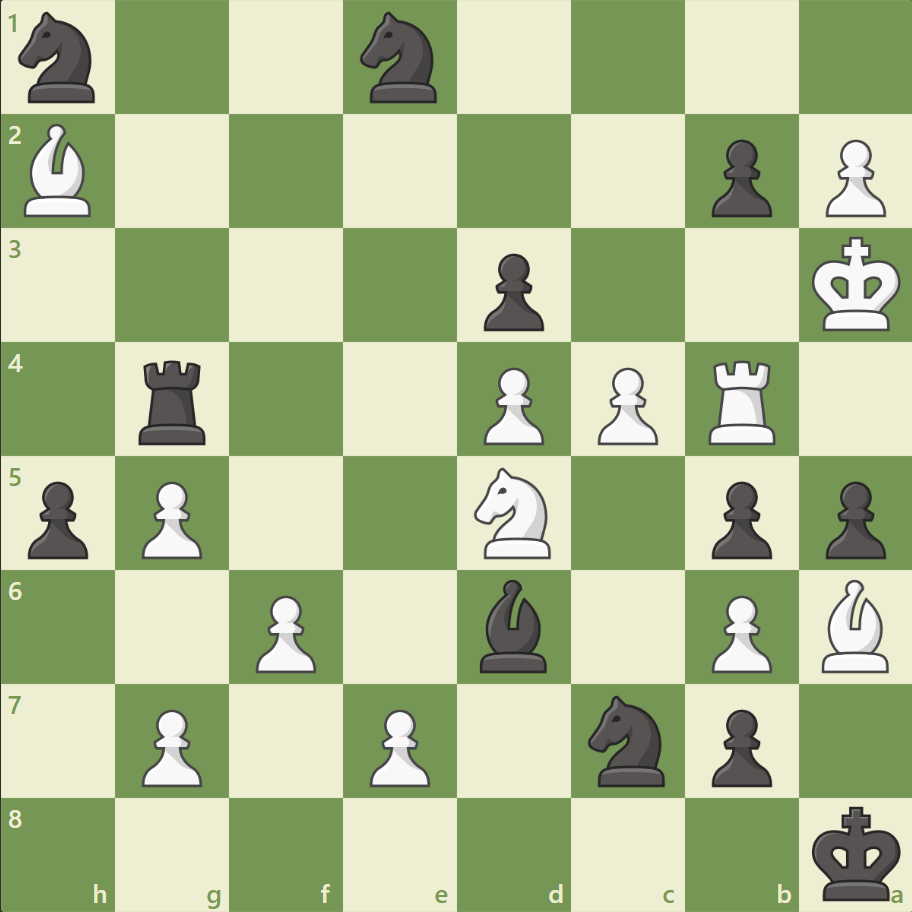B: (812, 574, 896, 676), (17, 120, 101, 222)
K: (806, 231, 906, 339)
N: (465, 461, 562, 564)
P: (133, 700, 208, 791), (701, 586, 776, 677), (247, 586, 322, 677), (133, 473, 208, 564), (474, 359, 549, 450), (361, 700, 435, 791), (588, 359, 662, 450), (815, 132, 889, 223)
R: (700, 352, 783, 449)
b: (471, 574, 555, 676)
k: (806, 798, 906, 906)
n: (351, 7, 449, 110), (579, 688, 676, 791), (11, 7, 108, 110)
p: (701, 700, 776, 791), (701, 473, 776, 564), (20, 473, 95, 564), (474, 246, 549, 337), (701, 132, 776, 223), (815, 473, 889, 564)
r: (133, 352, 215, 449)
